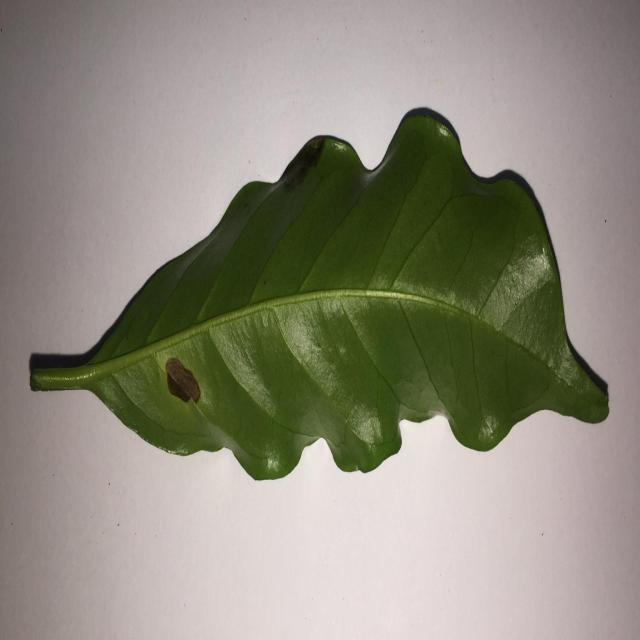Plaga-Minador: (27, 108, 611, 484)
